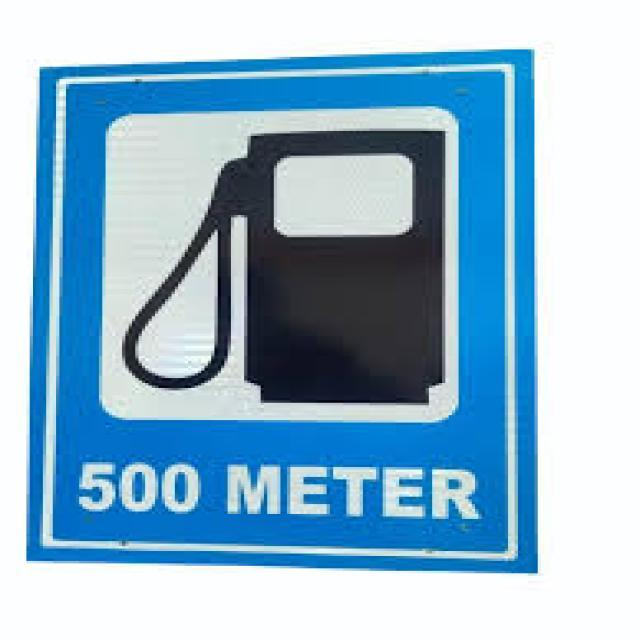petrol pump ahead: (68, 86, 484, 440)
